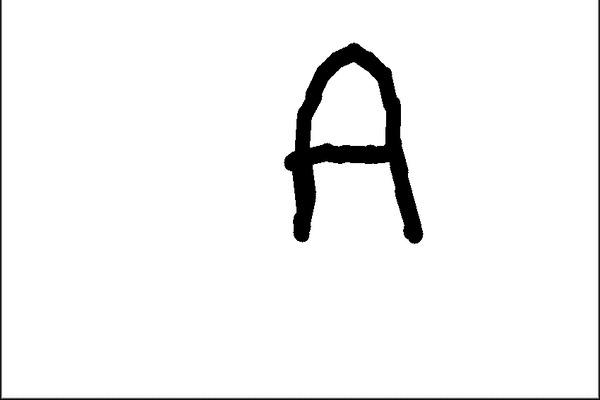A: (279, 27, 436, 258)
